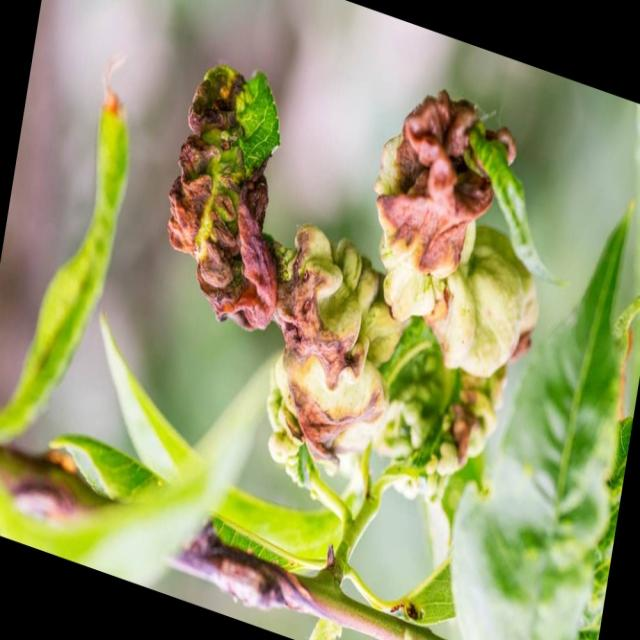peach_leaf_curl: (179, 3, 531, 500)
